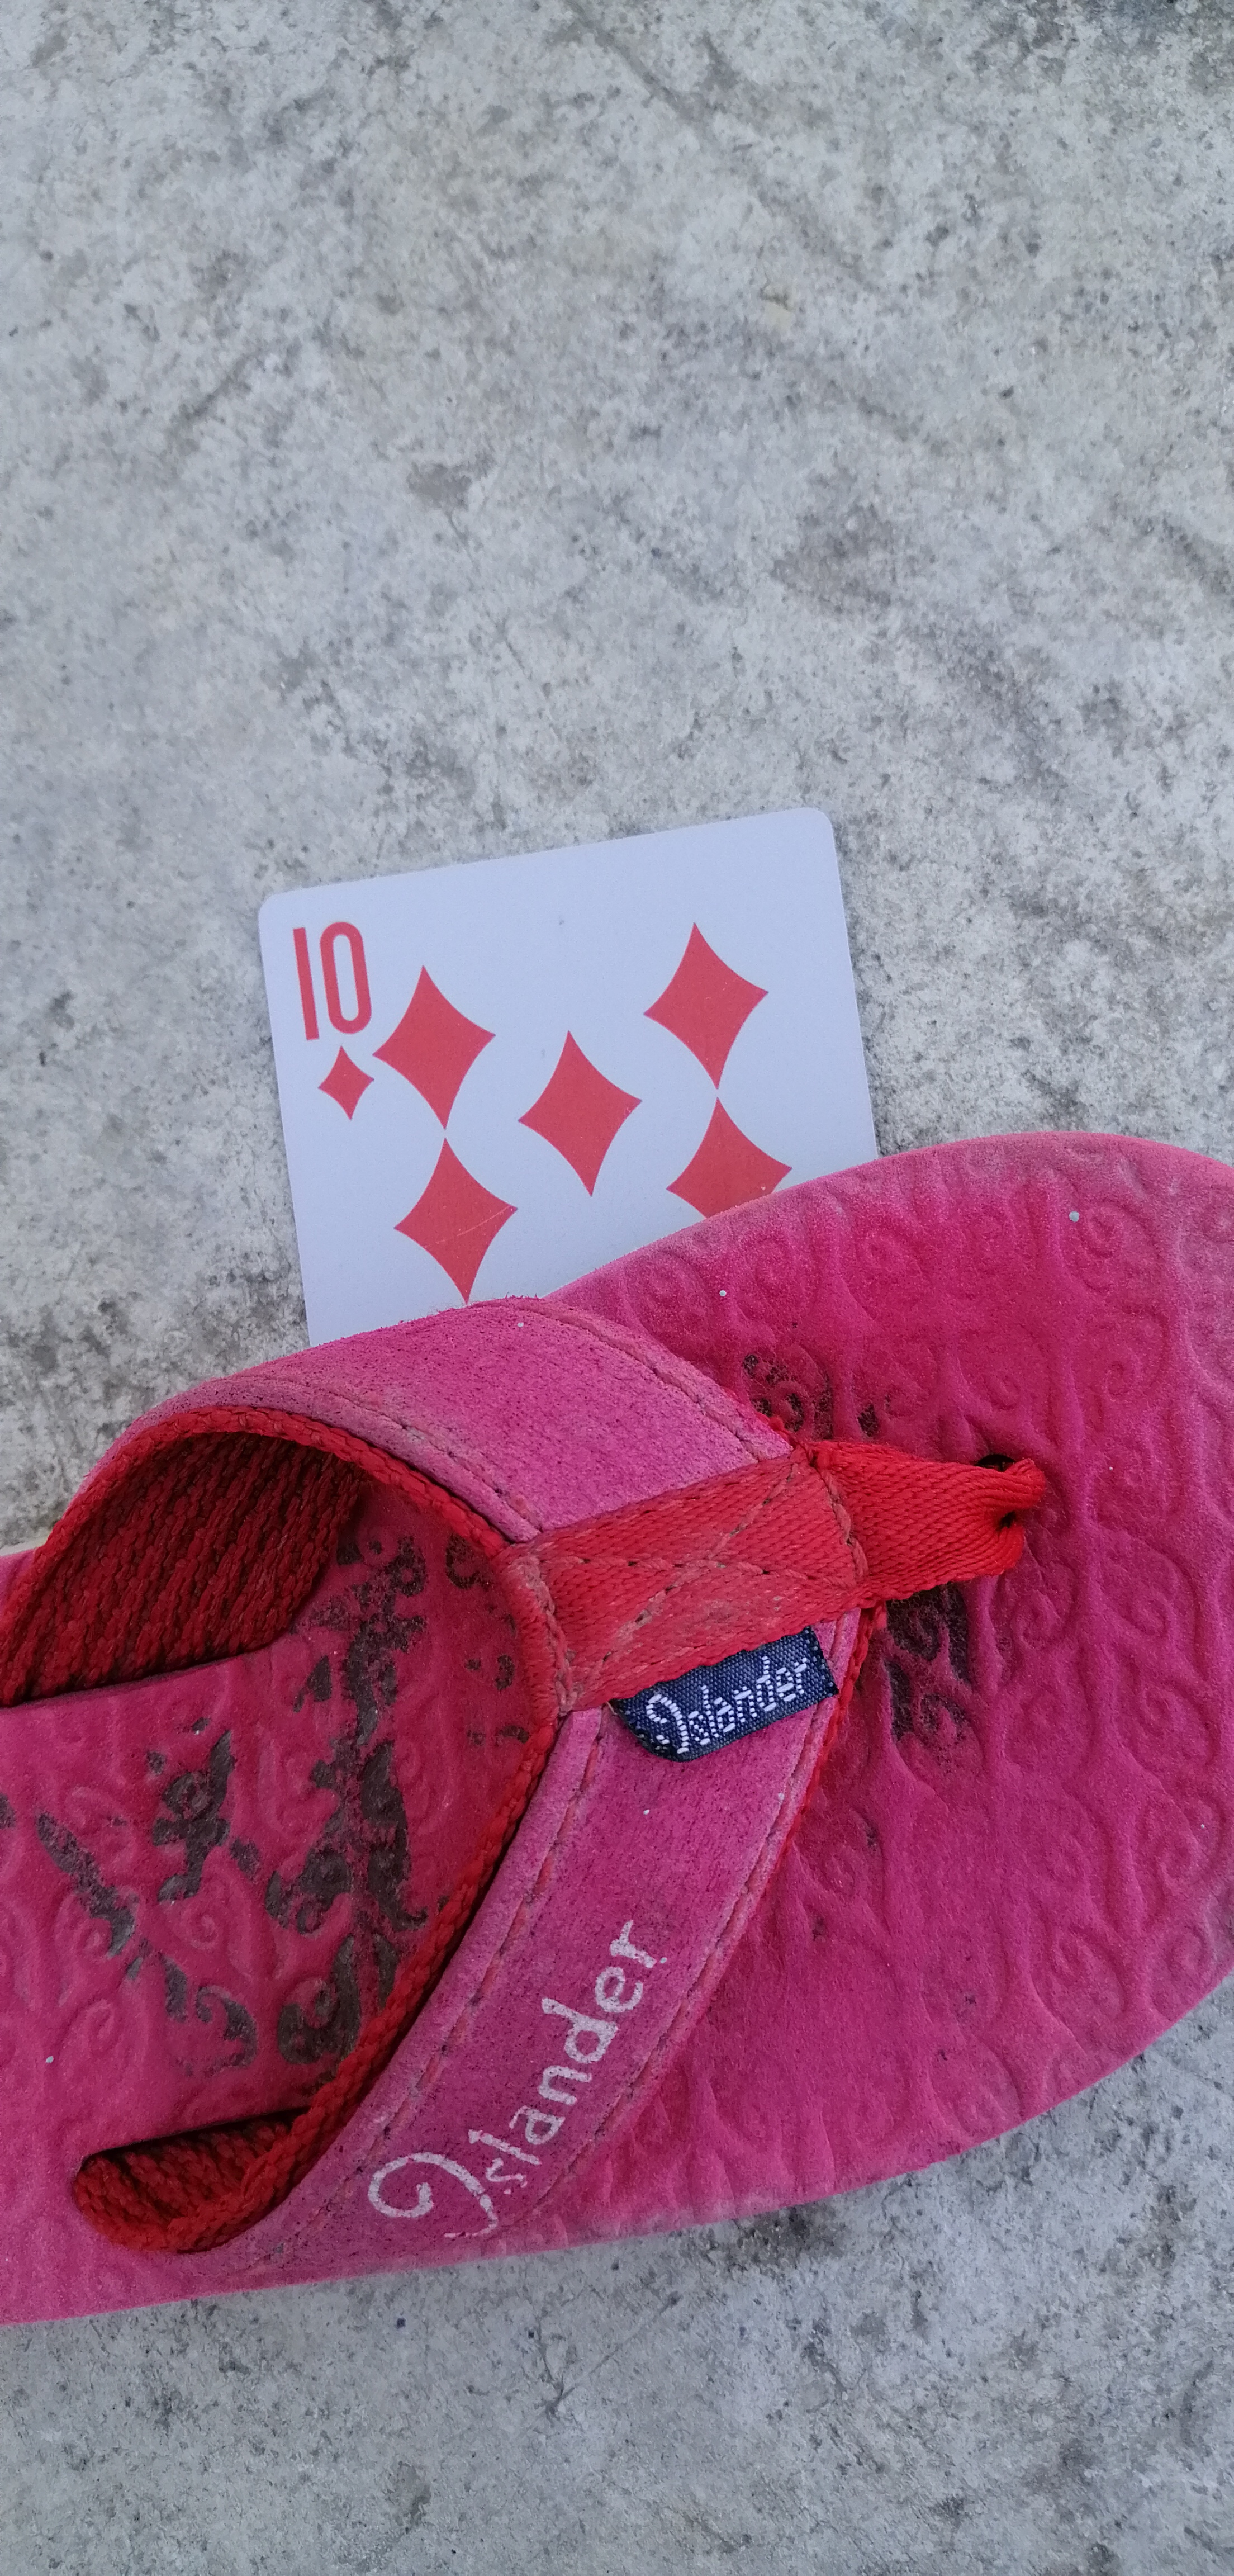ten: (240, 817, 899, 1342)
